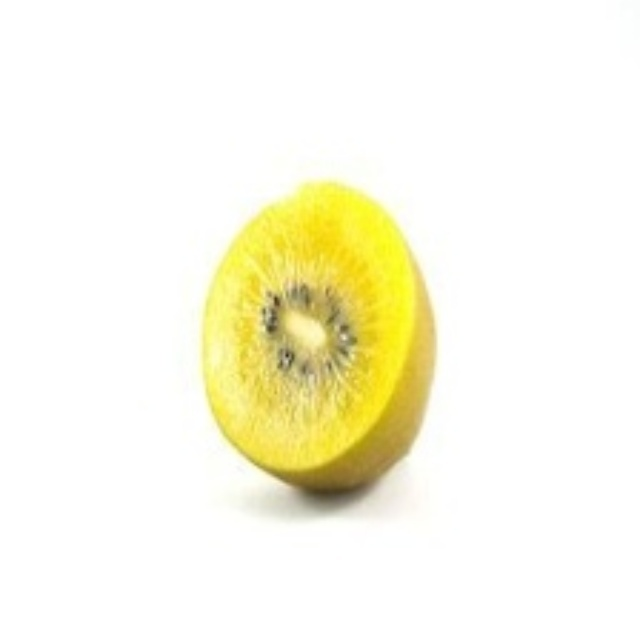kiwi: (179, 183, 456, 507)
